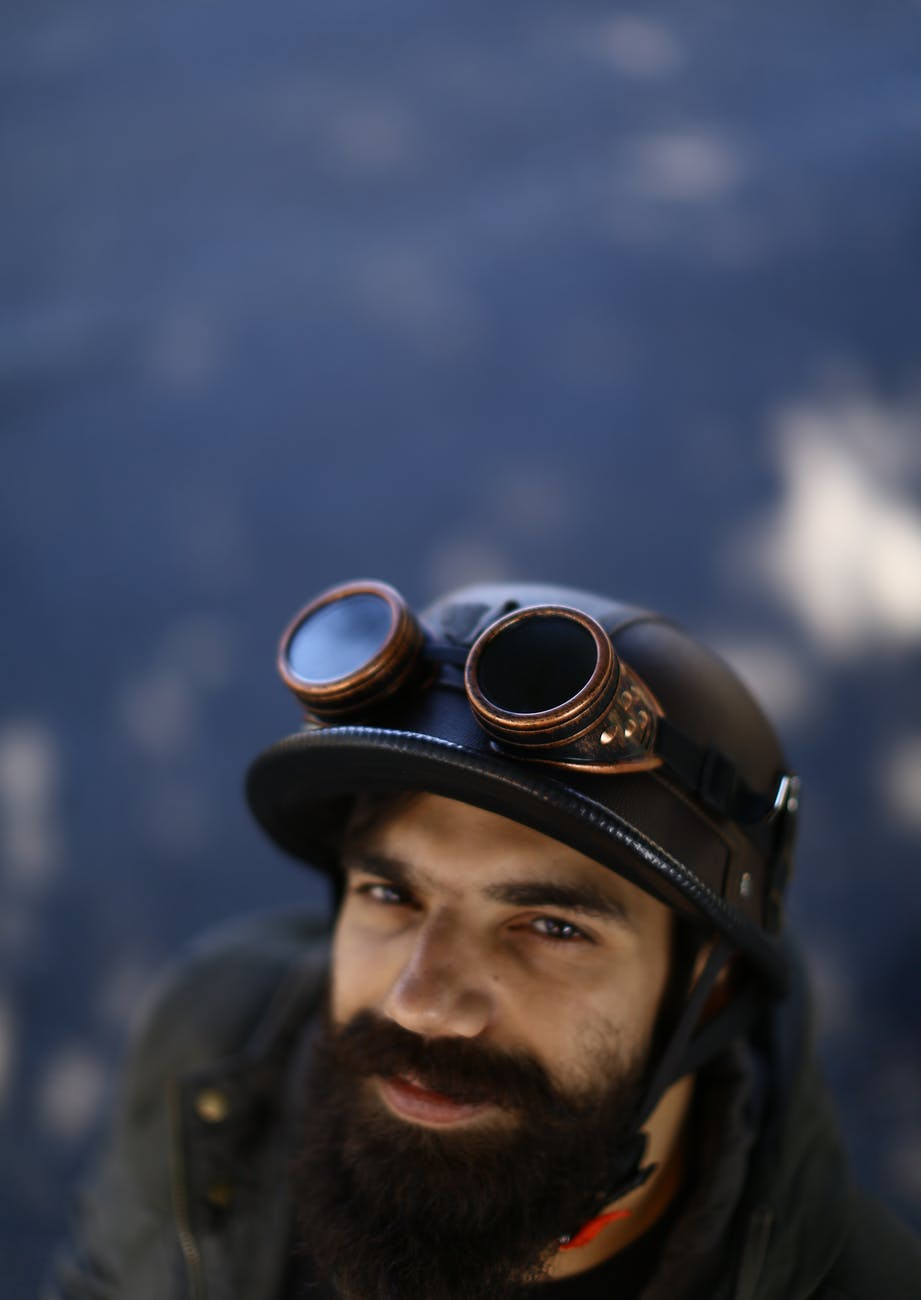helmet: (281, 575, 817, 973)
